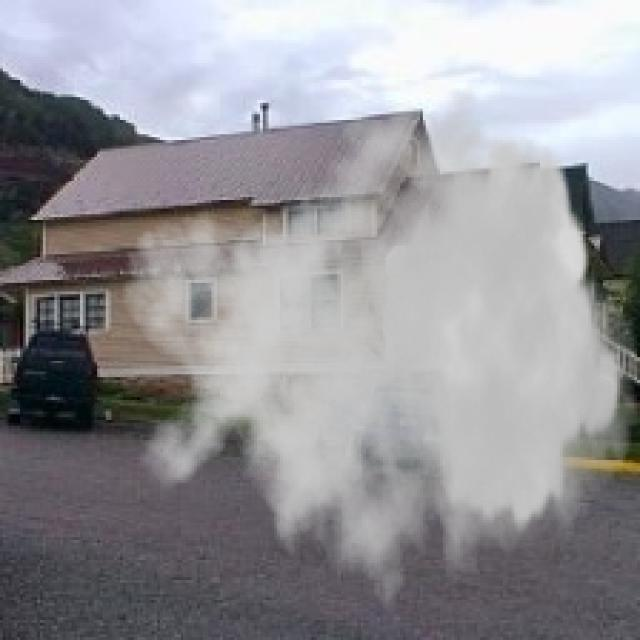Smoke: (120, 80, 638, 639)
